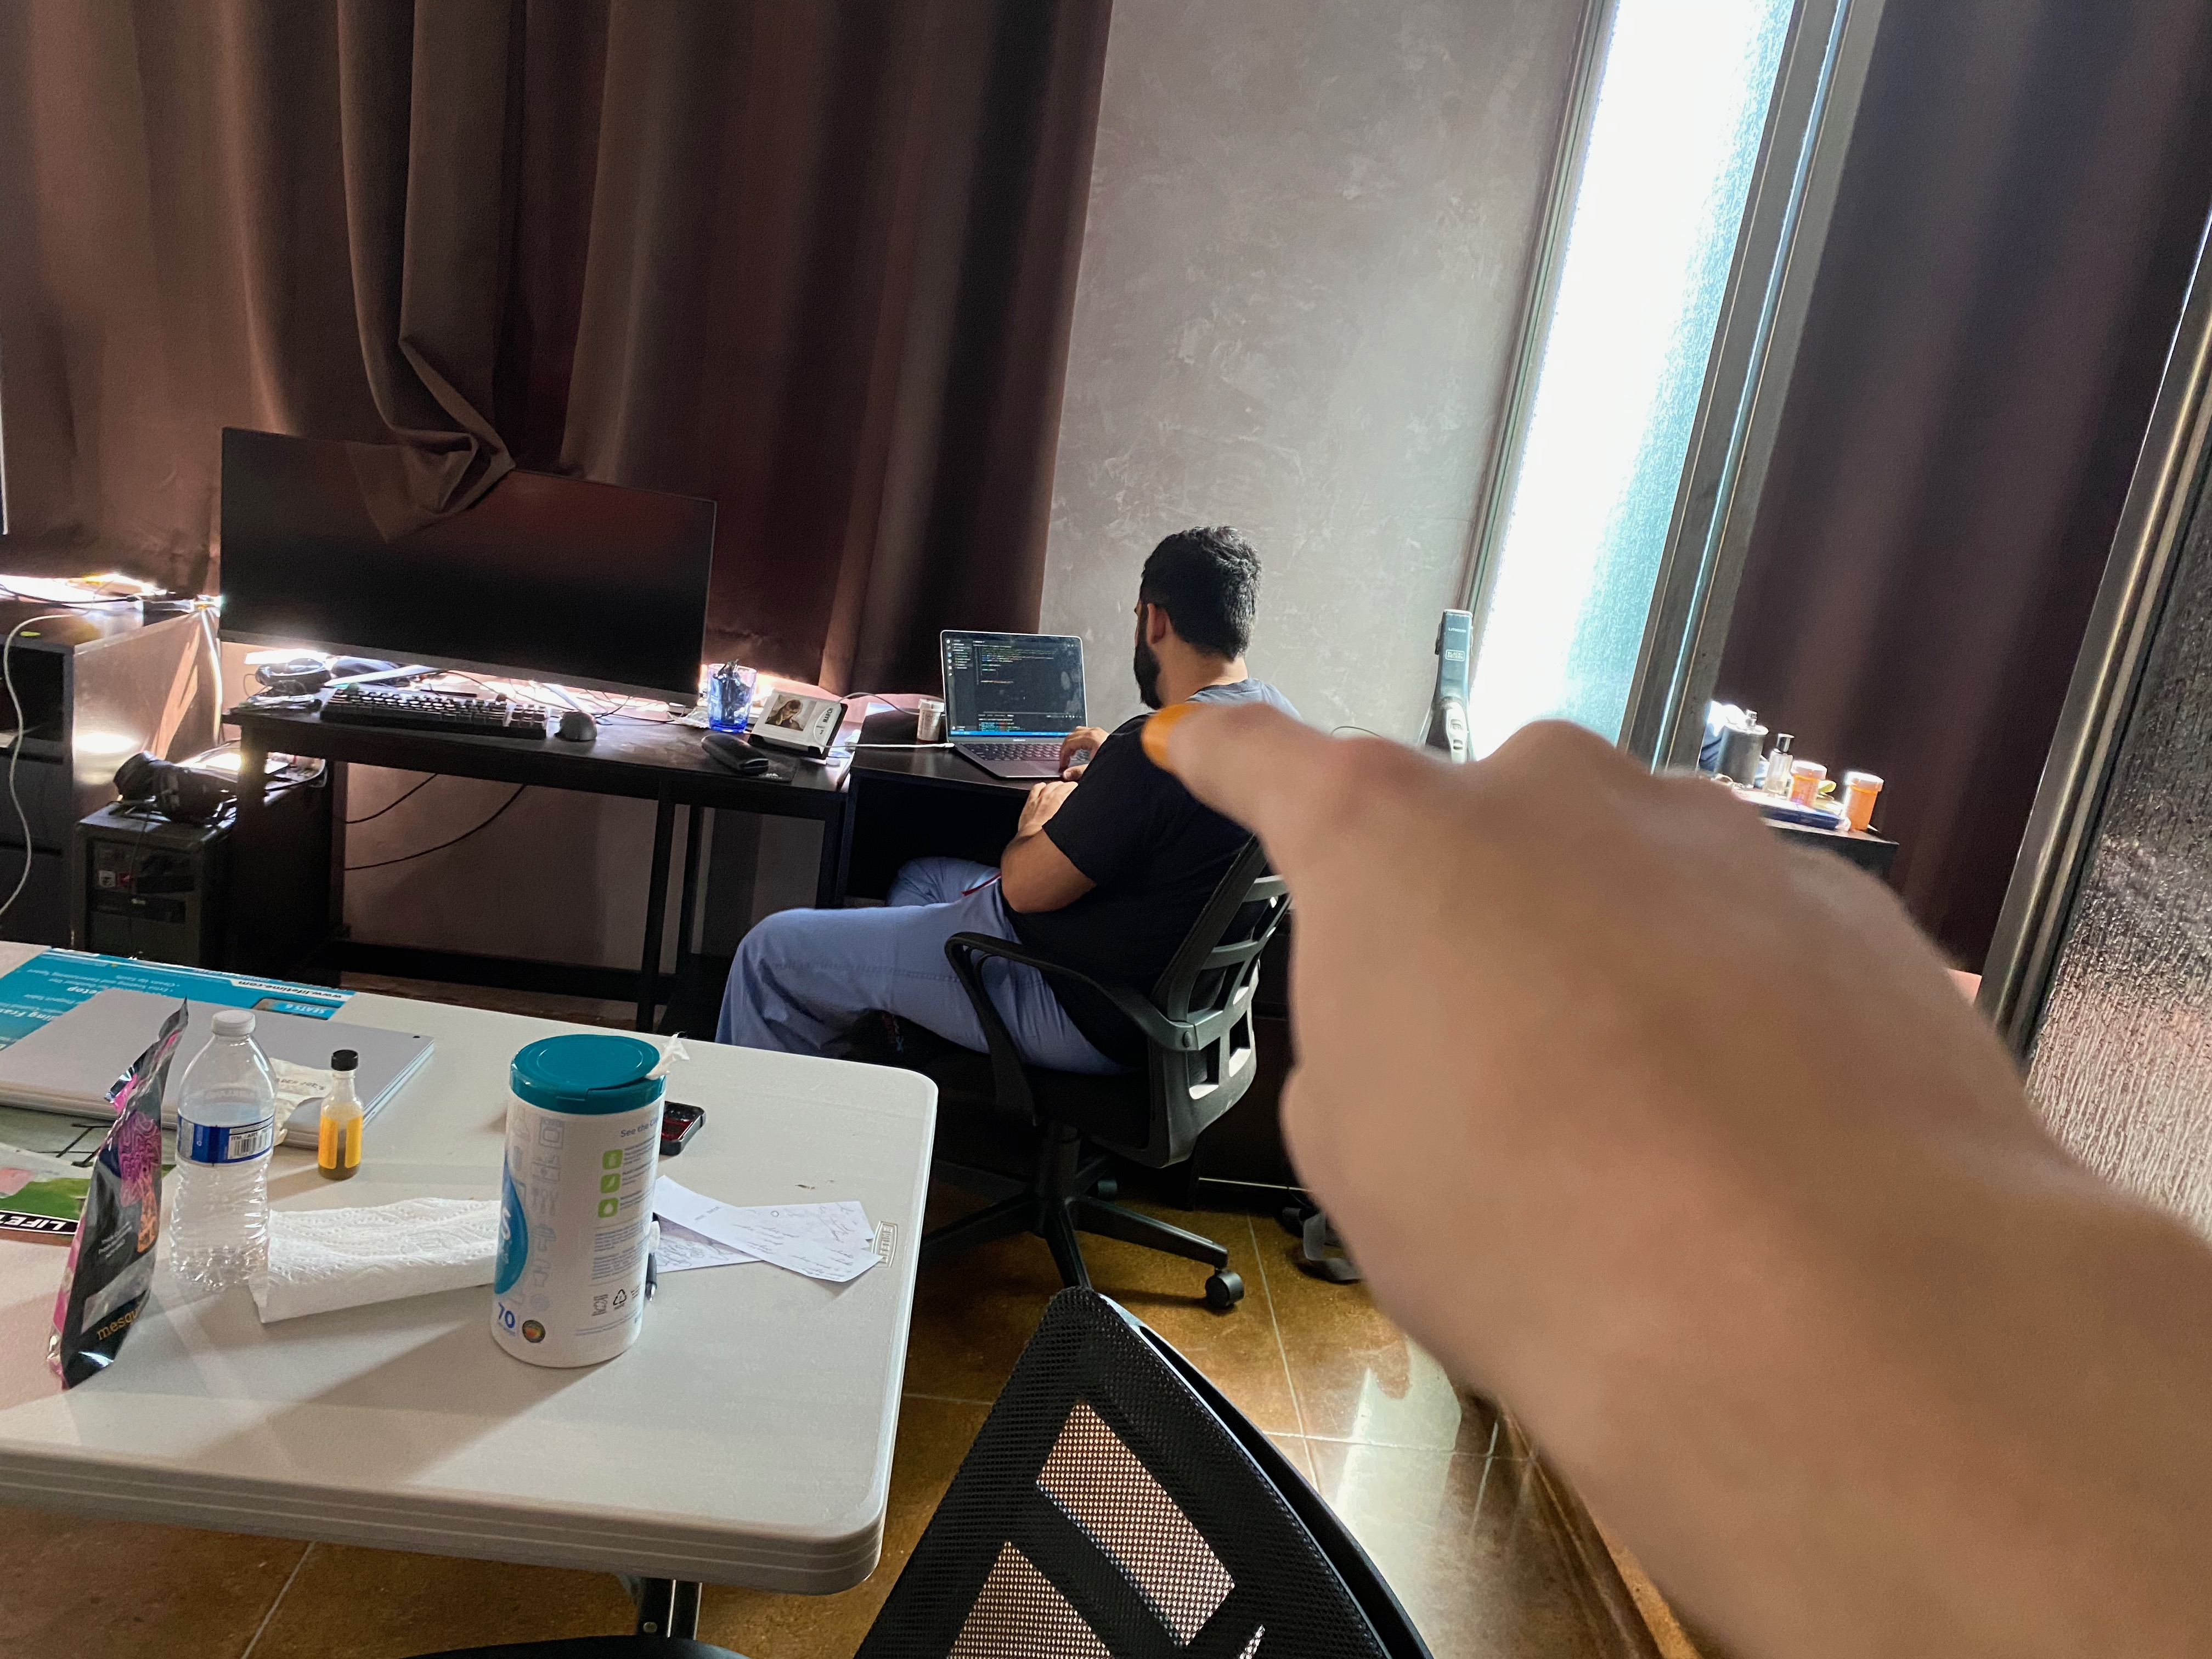fingertip: (1116, 687, 1224, 789)
